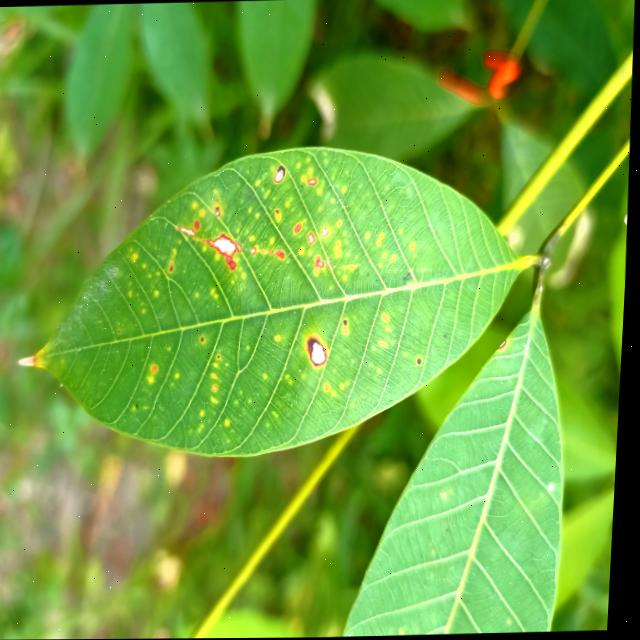Colletotrichum: (314, 338, 331, 365), (276, 165, 287, 182), (309, 232, 317, 244), (228, 254, 235, 264), (232, 261, 239, 270), (309, 178, 319, 184), (319, 259, 326, 267), (324, 228, 331, 236), (197, 220, 201, 228), (346, 319, 350, 325), (421, 357, 425, 363), (205, 337, 208, 341)
